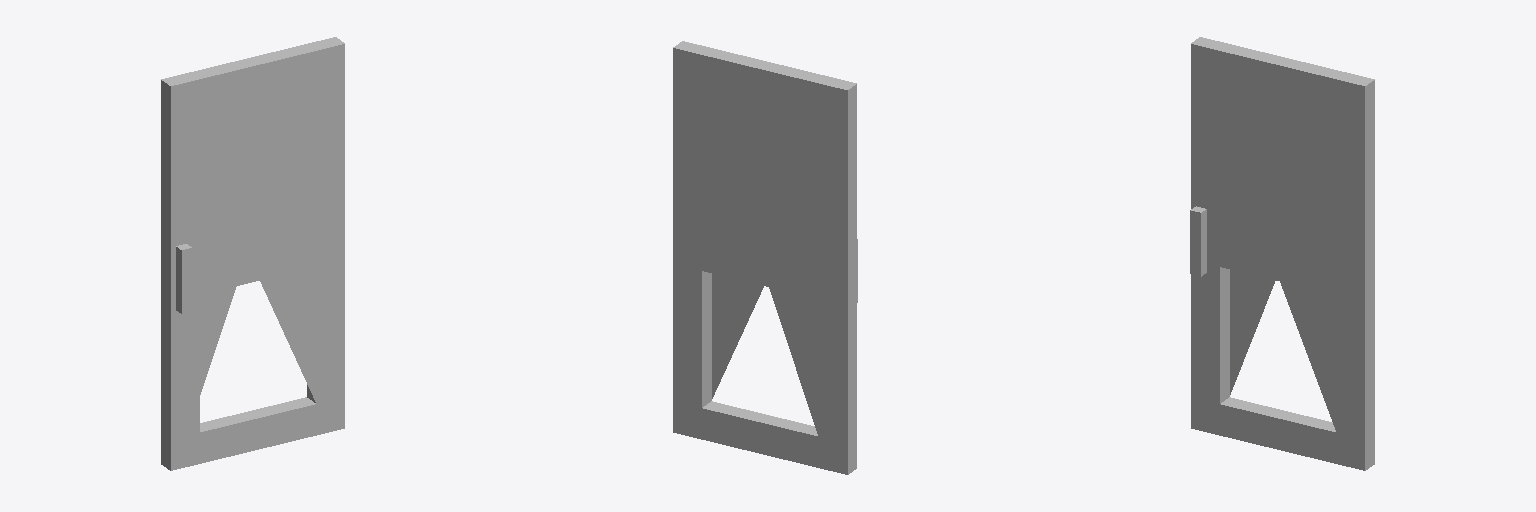
File: Shelf_Door_B.obj
3 renders of one model, left to right at view 1: azimuth 30°, elevation 25°; view 2: azimuth 150°, elevation 25°; view 3: azimuth 330°, elevation 25°, orthographic.
Parts seen in each view (by area): view 1: Shelf_Door_B; view 2: Shelf_Door_B; view 3: Shelf_Door_B.
Boxes of the visible parts, <box> form: Shelf_Door_B: <box>161,37,344,470</box>; Shelf_Door_B: <box>673,41,857,474</box>; Shelf_Door_B: <box>1190,37,1374,470</box>.
Bounding box in the file's own units: 0.4387 × 0.922 × 0.0658.